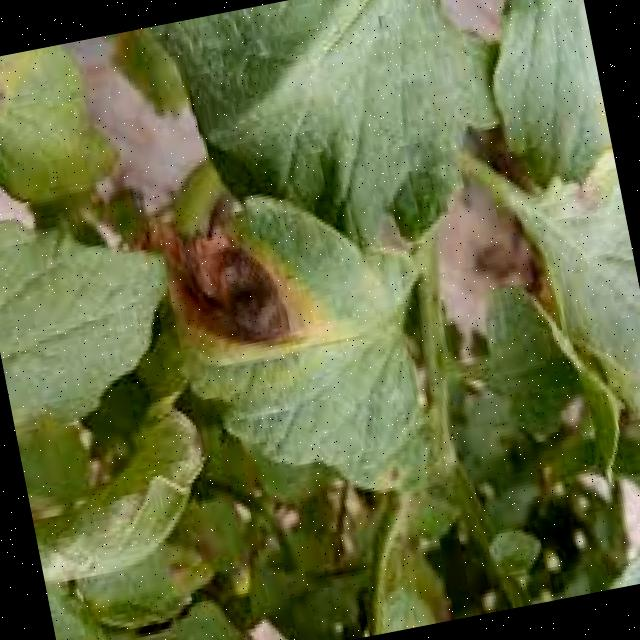leaf spot: (134, 164, 447, 505)
